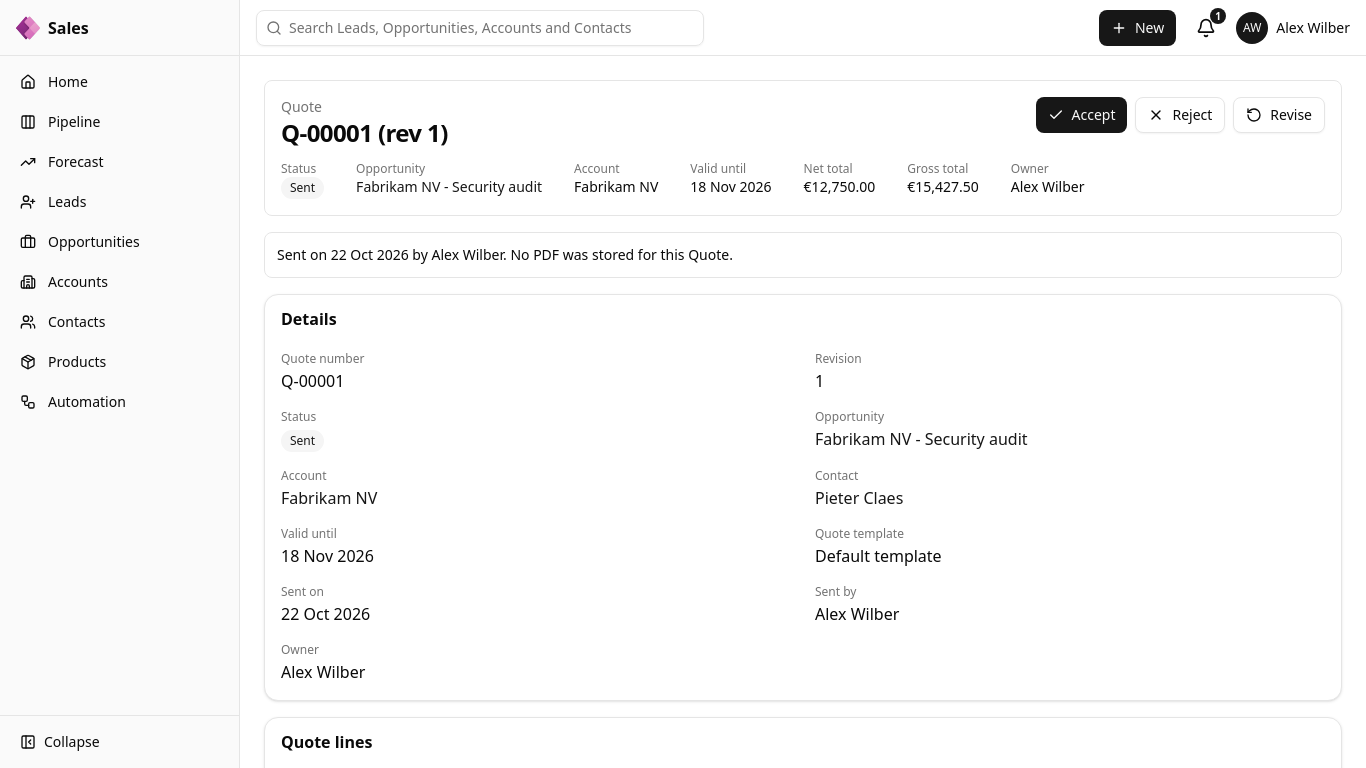
Test: A Sent Quote › keeps the Quote Accepted when the Close dialog is cancelled, and offers to close later
The image size is (1366, 768).
Click the button "Accept" at [1082, 115], box [1036, 97, 1128, 133]
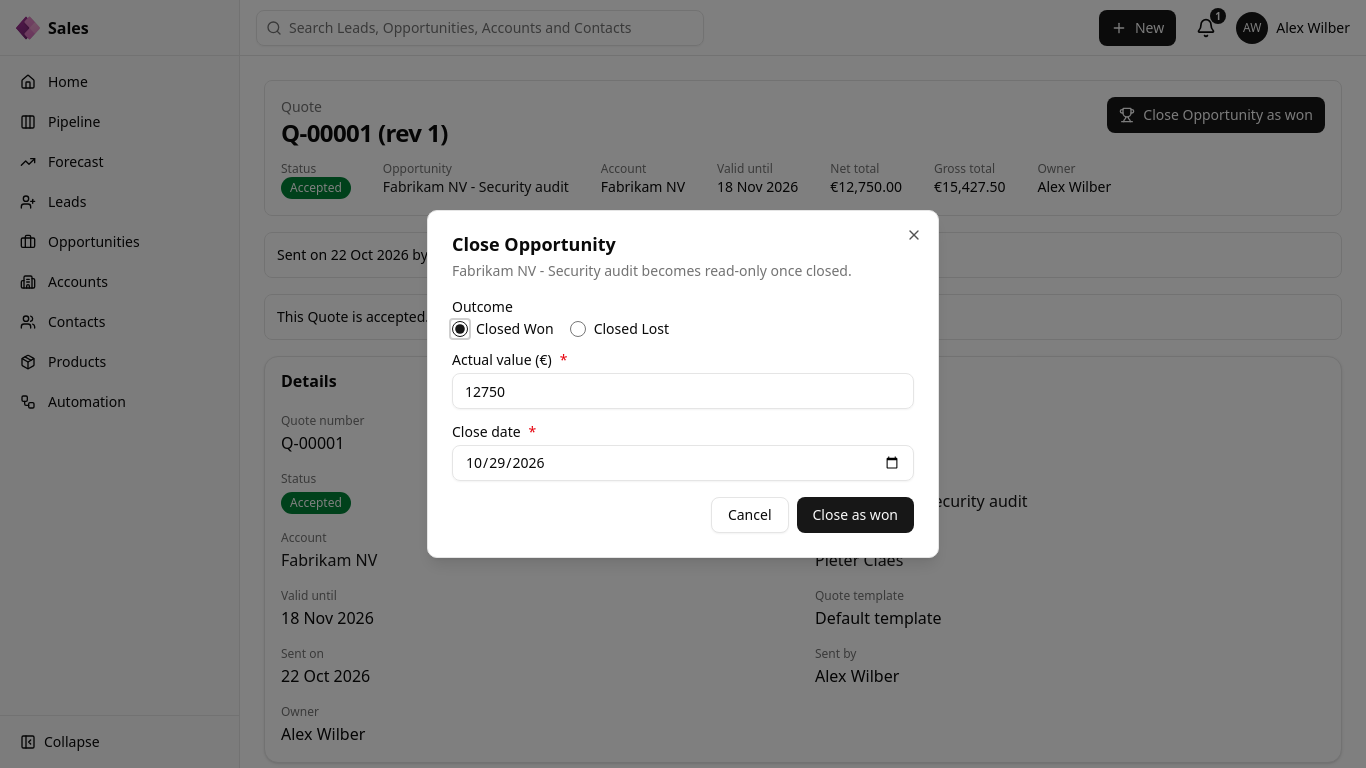
Click the button "Cancel" at [750, 515], box [711, 497, 788, 533]
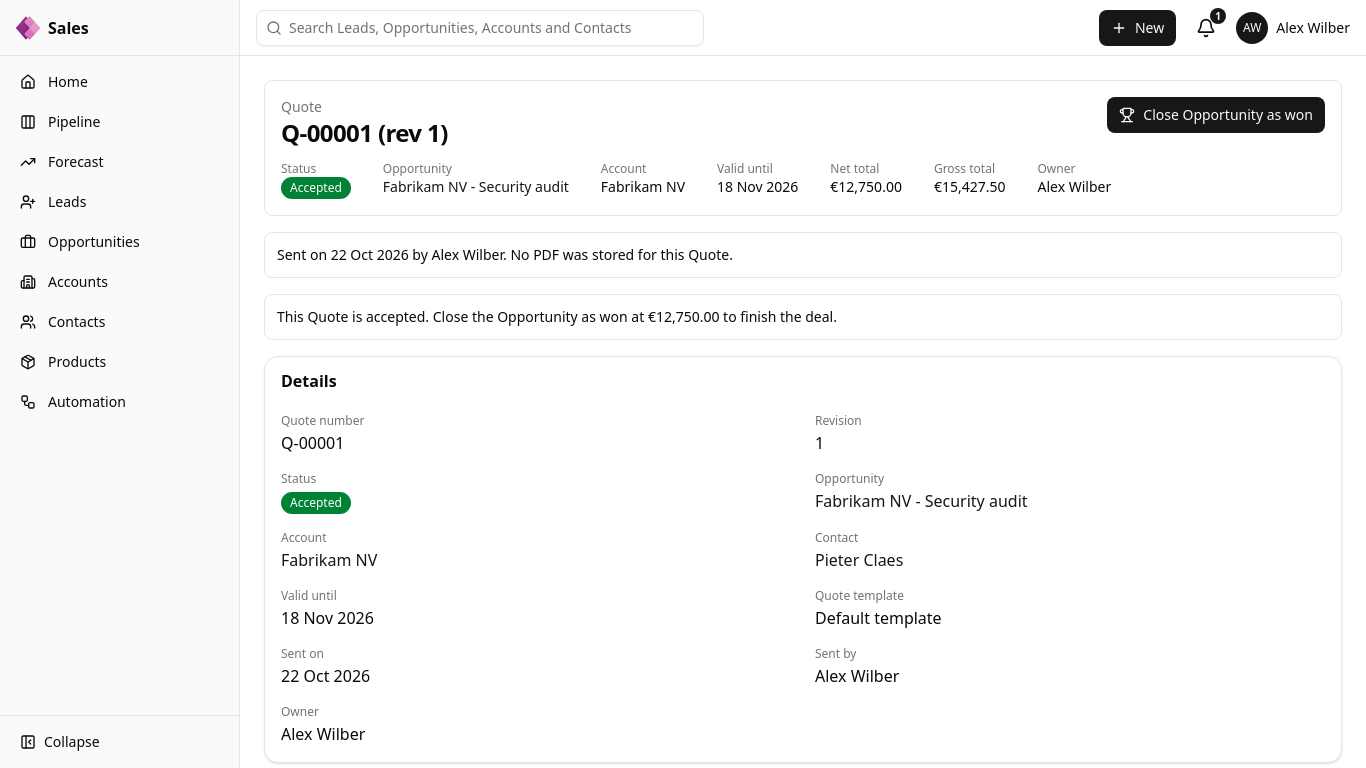
Expected: the text "Accepted" in the row of "€15,427.50" is shown, [290, 179, 342, 196]
Expected: the text "Close the Opportunity as won at €12,750.00" is shown, [264, 294, 1342, 340]
Expected: the dialog is gone
Click the button "Close Opportunity as won" at [1216, 115], box [1107, 97, 1325, 133]
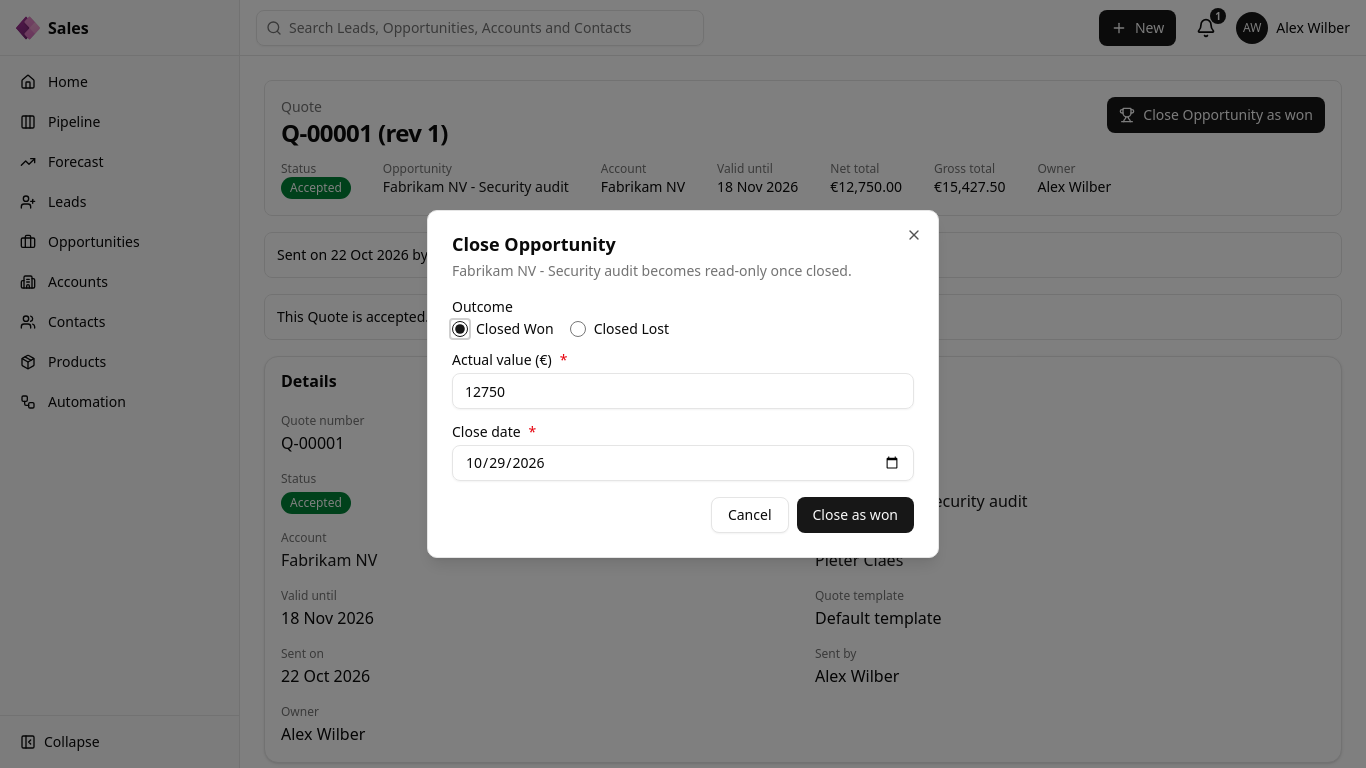
Expected: the number field labelled "Actual value (€) *" holds "12750", [452, 373, 914, 409]
